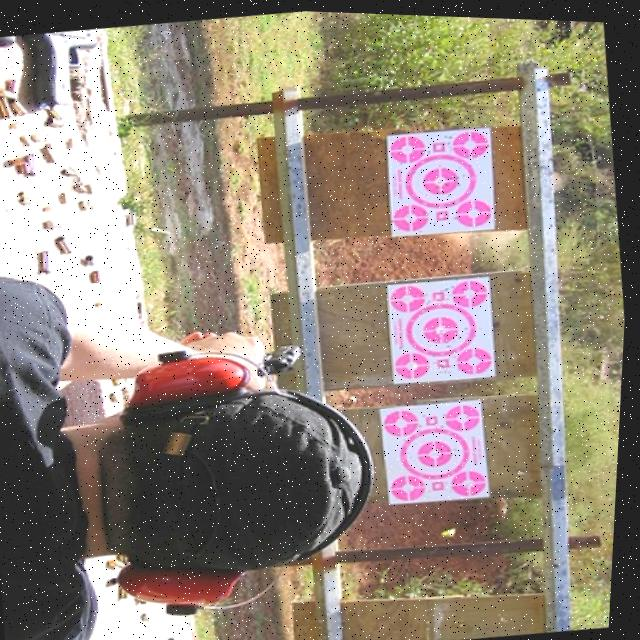pistol: (16, 26, 106, 116), (255, 338, 312, 375), (0, 34, 19, 54)
